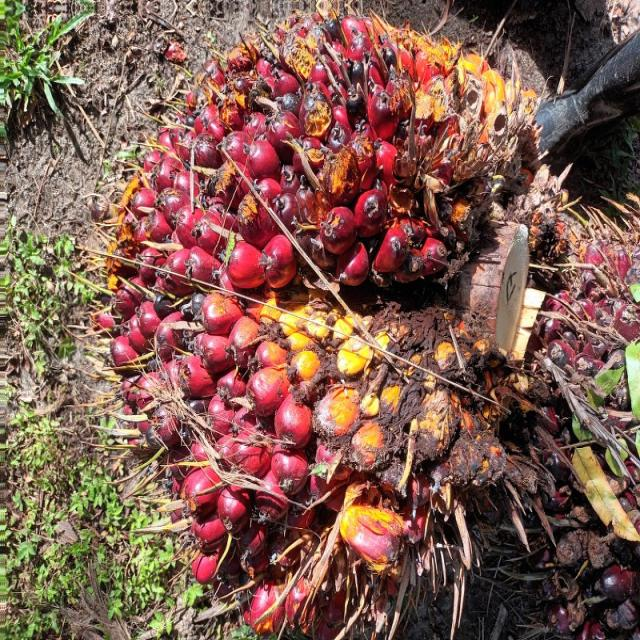fraksi 3: (41, 21, 554, 638)
